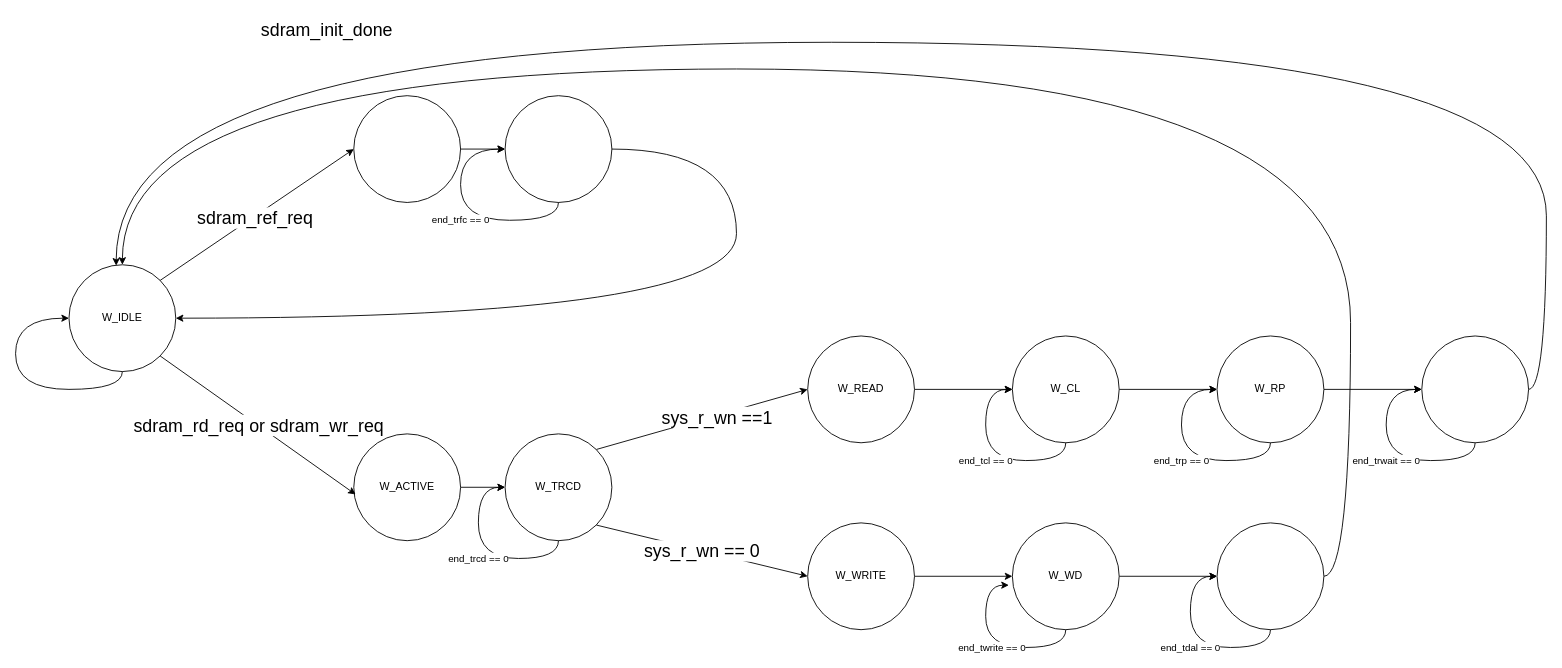
The diagram is 1562 pixels wide and 668 high, and some of its shapes have lost their labels. Here are the shapes that lost their labels. From the top down, the centre of each, then its label:
At point (407, 148): "W_AR".
At point (558, 148): "W_TRFC".
At point (1475, 389): "W_RWAIT".
At point (1270, 576): "W_TDAL".
